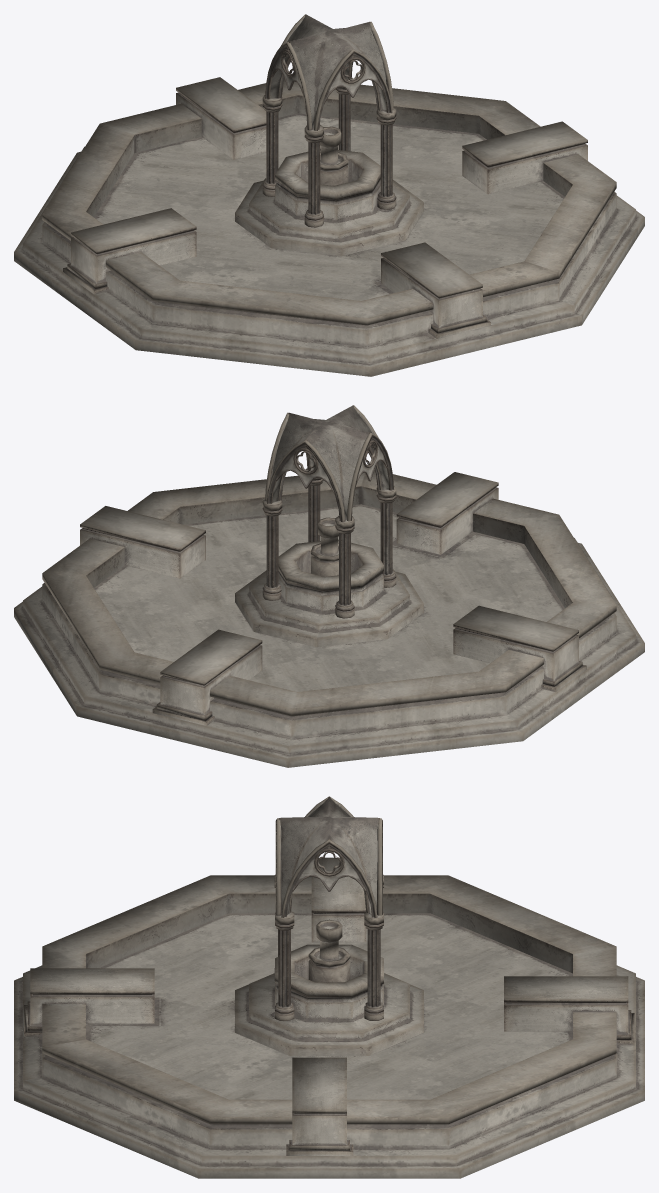
File: Fountain.fbx
3 views of the same model, one above another, from view 1: azimuth 30°, elevation 25°; view 2: azimuth 150°, elevation 25°; view 3: azimuth 270°, elevation 25° (orthographic). The views are drawn at different scales.
Parts seen in each view (by area): view 1: Fountain, Fountain_Water; view 2: Fountain, Fountain_Water; view 3: Fountain, Fountain_Water.
Part boxes in pixels (bbox=[...]): Fountain: bbox=[14, 14, 644, 376]; Fountain_Water: bbox=[94, 113, 564, 300]; Fountain: bbox=[14, 405, 644, 767]; Fountain_Water: bbox=[94, 504, 564, 691]; Fountain: bbox=[14, 796, 644, 1178]; Fountain_Water: bbox=[86, 913, 572, 1099].
Bounding box in the file's own units: 22.37 × 8.9 × 22.37.
1 material, 1 textured.
